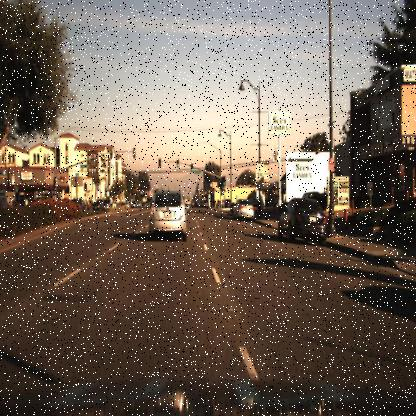car: (274, 194, 329, 251), (144, 183, 188, 248), (231, 197, 258, 226), (301, 184, 322, 202), (89, 198, 104, 216), (102, 199, 116, 216)
trafficLight-Green: (220, 177, 228, 193), (173, 155, 181, 168), (174, 158, 181, 170), (189, 161, 195, 174), (189, 166, 195, 177), (221, 176, 226, 186), (219, 186, 224, 194)
